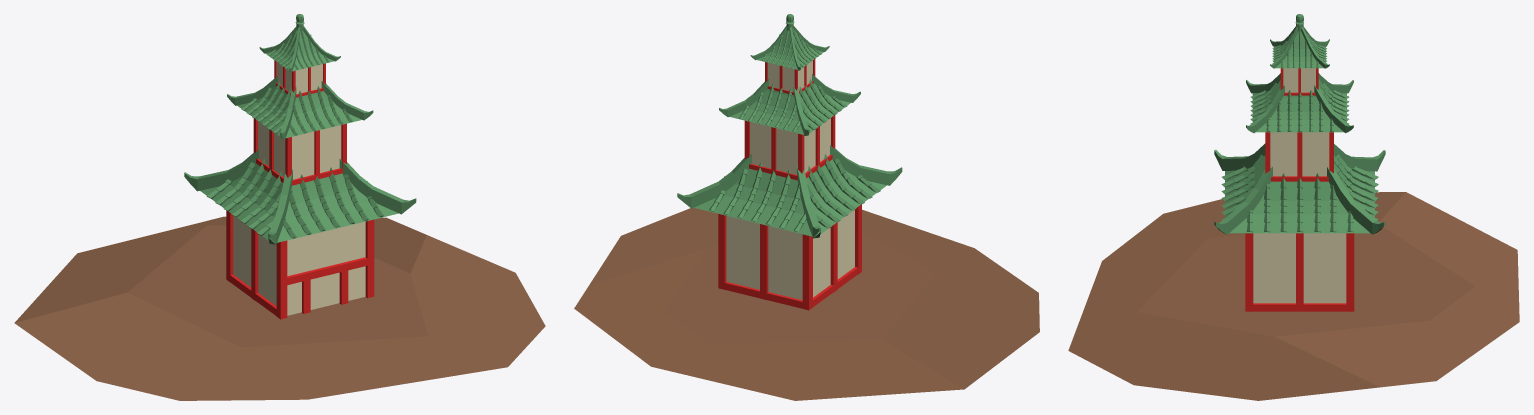
File: free-pagoda-niko313.glb
3 renders of one model, left to right at view 1: azimuth 30°, elevation 25°; view 2: azimuth 150°, elevation 25°; view 3: azimuth 270°, elevation 25°, orthographic. The views are drawn at different scales.
Visible parts, largest first — view 1: Plane_Material001_0, Cube023_verde_0, Cube023_muri_0, Cube023_rosso_0; view 2: Plane_Material001_0, Cube023_verde_0, Cube023_muri_0, Cube023_rosso_0; view 3: Plane_Material001_0, Cube023_verde_0, Cube023_muri_0, Cube023_rosso_0.
Boxes of the visible parts, x1,y1,x2,y2 form: Plane_Material001_0: (14, 216, 545, 400); Cube023_verde_0: (184, 14, 416, 244); Cube023_muri_0: (233, 62, 365, 315); Cube023_rosso_0: (226, 60, 374, 319); Plane_Material001_0: (574, 208, 1039, 400); Cube023_verde_0: (677, 14, 902, 237); Cube023_muri_0: (726, 61, 854, 300); Cube023_rosso_0: (718, 59, 861, 310); Plane_Material001_0: (1068, 192, 1519, 400); Cube023_verde_0: (1214, 14, 1385, 234); Cube023_muri_0: (1253, 68, 1346, 303); Cube023_rosso_0: (1245, 68, 1354, 311).
Bounding box in the file's own units: 24.65 × 16 × 22.5.
